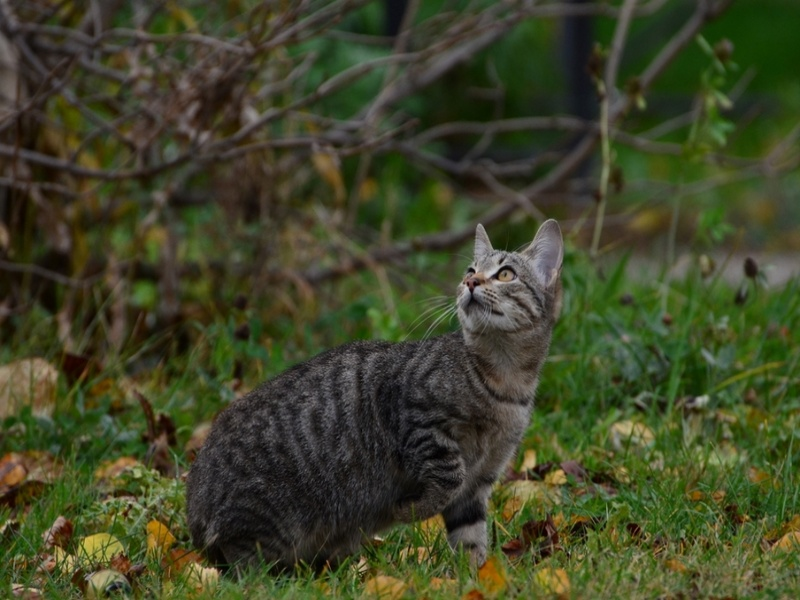cat: (150, 212, 574, 588)
